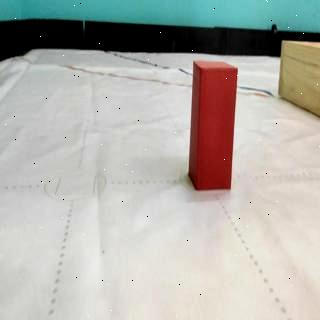redbox: (188, 60, 238, 192)
